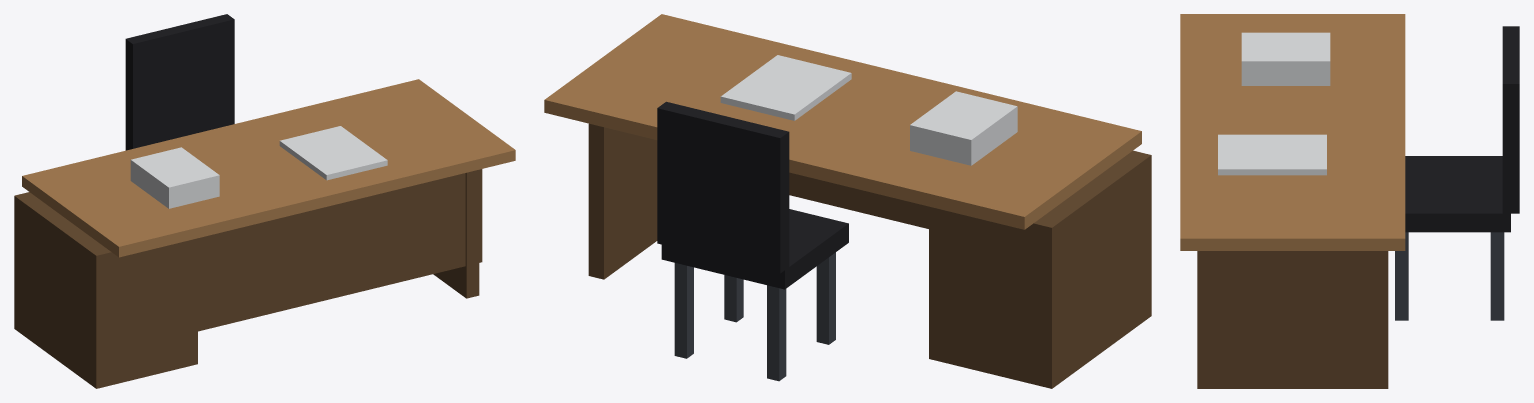
Rendered from esc-mesa-professor.gltf.
The picture shows the model from 3 angles, left to right: view 1: azimuth 30°, elevation 25°; view 2: azimuth 150°, elevation 25°; view 3: azimuth 270°, elevation 25°; orthographic projection. The views are drawn at different scales.
Parts seen in each view (by area): view 1: esc-mesa-professor; view 2: esc-mesa-professor; view 3: esc-mesa-professor.
Part boxes in pixels (x1,y1,x2,y2): esc-mesa-professor: (14, 14, 515, 388); esc-mesa-professor: (544, 14, 1151, 388); esc-mesa-professor: (1180, 14, 1519, 388).
Bounding box in the file's own units: 1.62 × 0.78 × 0.995.
